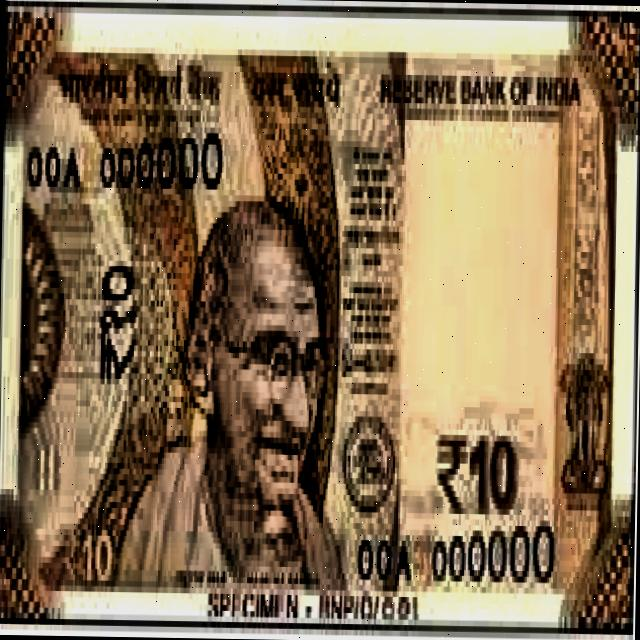-10-: (0, 5, 640, 589)
